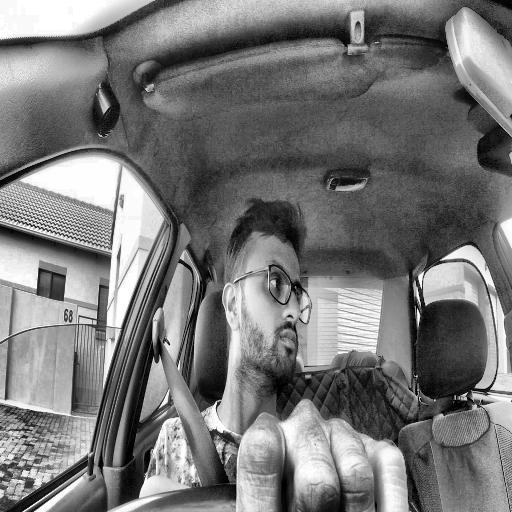awake: (222, 197, 313, 384)
